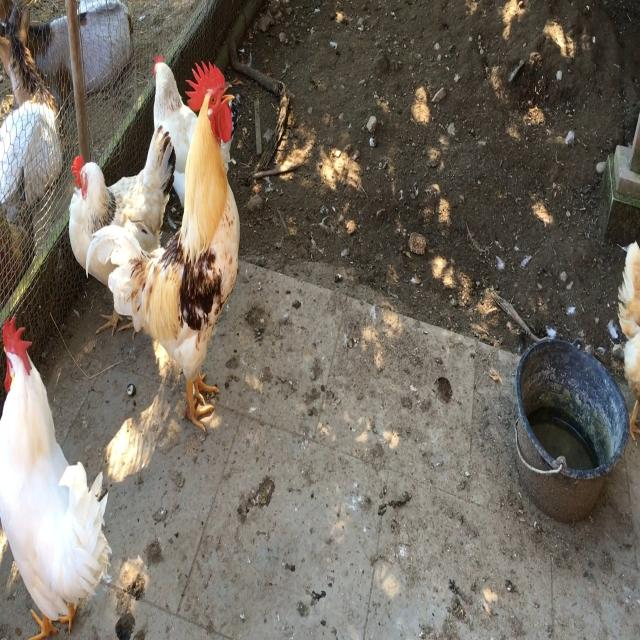chicken: (113, 46, 270, 432), (60, 155, 116, 296)
